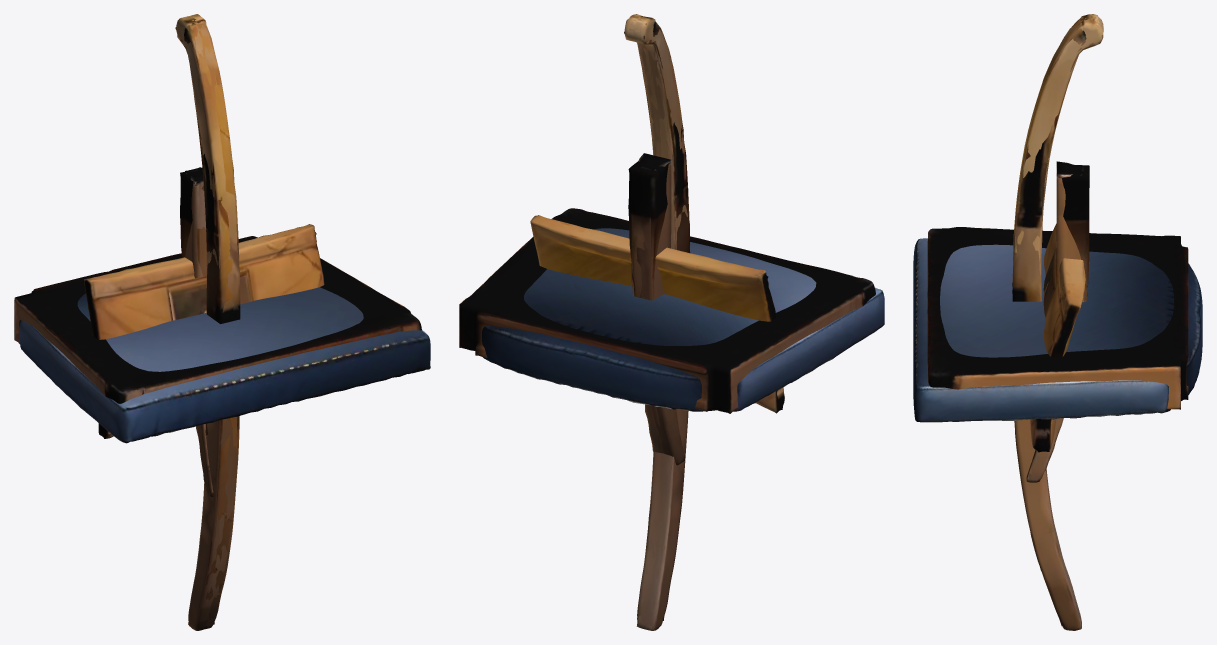
3 renders of one model, left to right at view 1: azimuth 30°, elevation 25°; view 2: azimuth 150°, elevation 25°; view 3: azimuth 270°, elevation 25°, orthographic. The views are drawn at different scales.
Visible parts, largest first — view 1: root.0, root.1, root.2, root.3, root.4, root.5, root.6; view 2: root.0, root.1, root.2, root.3, root.4, root.5, root.6; view 3: root.0, root.1, root.4, root.3, root.2, root.5, root.6.
Boxes of the visible parts, box(x1,y1,x2,y2) form: root.0: box(19, 287, 430, 443); root.1: box(14, 236, 421, 403); root.2: box(84, 224, 324, 438); root.3: box(176, 15, 240, 630); root.4: box(175, 14, 239, 630); root.5: box(185, 168, 213, 496); root.6: box(180, 167, 206, 276); root.0: box(482, 228, 884, 411); root.1: box(459, 208, 875, 413); root.2: box(530, 215, 784, 413); root.3: box(624, 16, 689, 630); root.4: box(624, 14, 690, 630); root.5: box(628, 153, 684, 465); root.6: box(631, 153, 670, 453); root.0: box(913, 238, 1202, 422); root.1: box(927, 227, 1188, 409); root.4: box(1012, 15, 1103, 630); root.3: box(1012, 14, 1103, 630); root.2: box(1030, 223, 1085, 452); root.5: box(1056, 161, 1089, 302); root.6: box(1026, 161, 1089, 482).
Bounding box in the file's own units: 19653 × 36328 × 15644.
1 material, 1 textured.
